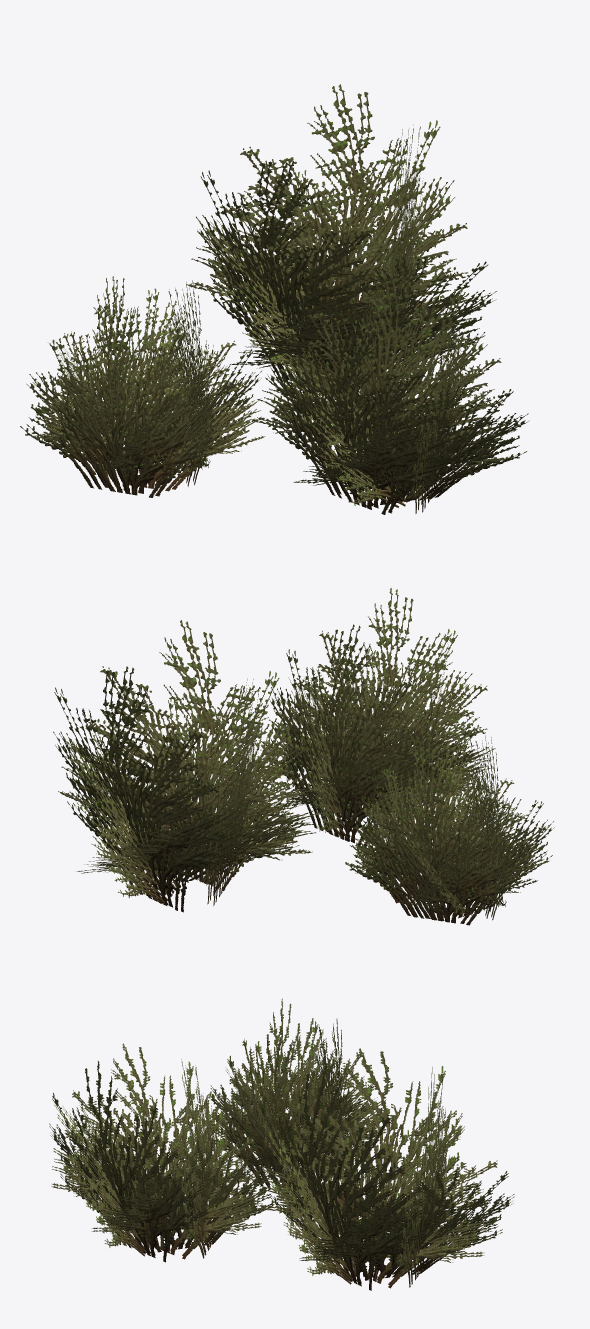
Rendered from GM_guanmu001_002.FBX.
The picture shows the model from 3 angles, top to bottom: view 1: azimuth 30°, elevation 25°; view 2: azimuth 150°, elevation 25°; view 3: azimuth 270°, elevation 25°; orthographic projection. The views are drawn at different scales.
Parts seen in each view (by area): view 1: GM_巴陵灌木001_002; view 2: GM_巴陵灌木001_002; view 3: GM_巴陵灌木001_002.
Part boxes in pixels (bbox=[...]): GM_巴陵灌木001_002: bbox=[20, 84, 529, 514]; GM_巴陵灌木001_002: bbox=[53, 588, 554, 925]; GM_巴陵灌木001_002: bbox=[49, 998, 514, 1290].
Size of the model in its own units: 264 by 143 by 296.
